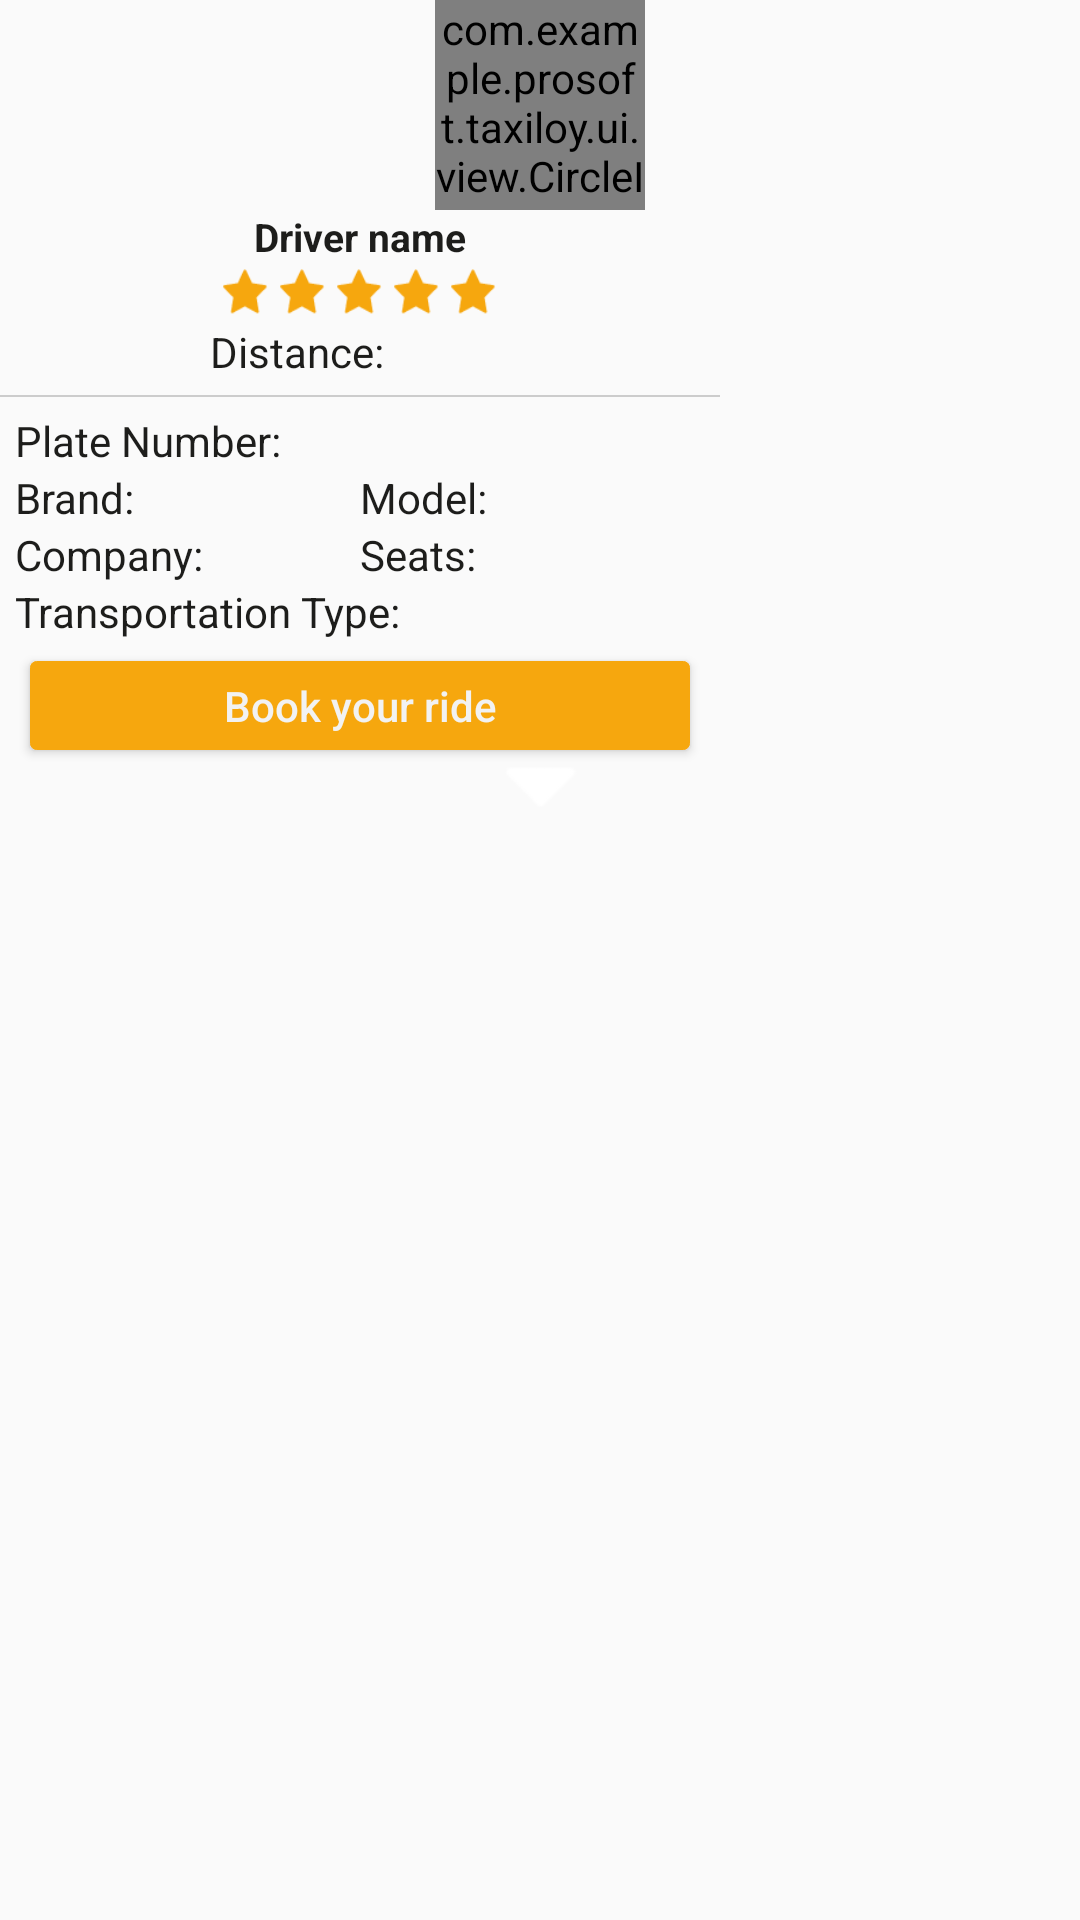

Icon click points for this 1080 × 1920 phone screenshot, format (x=x, y=y):
star: (x=245, y=291), (x=302, y=291), (x=359, y=291), (x=416, y=291), (x=473, y=291)
